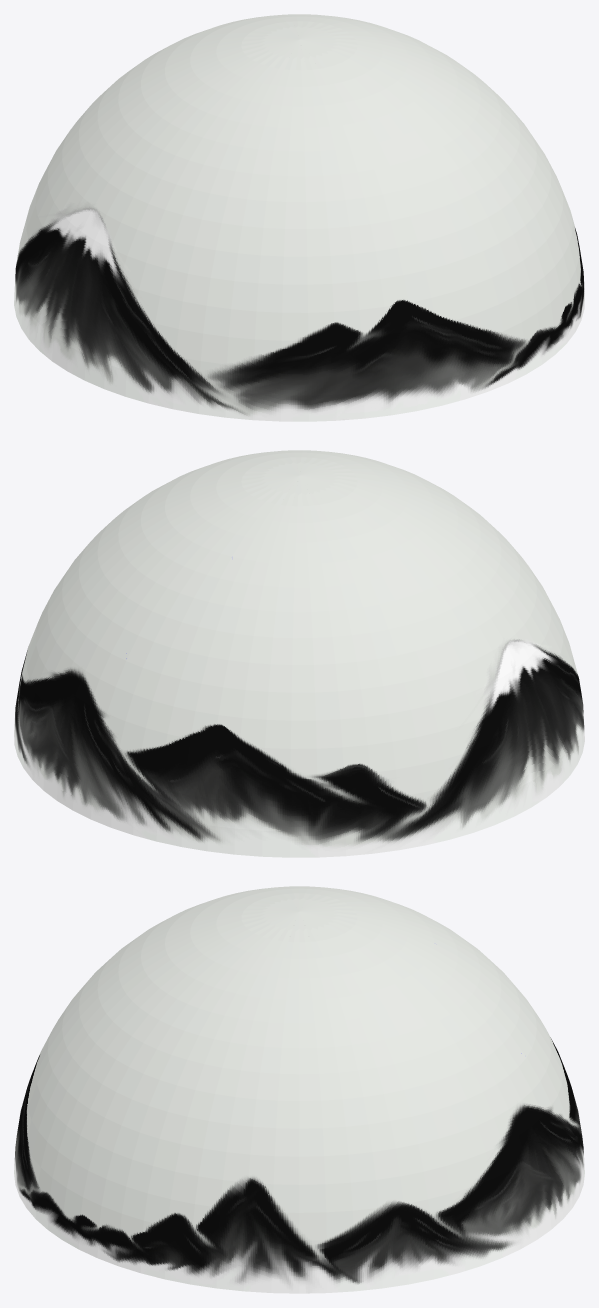
File: skybox.glb
3 renders of one model, top to bottom at view 1: azimuth 30°, elevation 25°; view 2: azimuth 150°, elevation 25°; view 3: azimuth 270°, elevation 25°, orthographic.
Visible parts, largest first — view 1: Sphere; view 2: Sphere; view 3: Sphere.
Part boxes in pixels (x1=…): Sphere: x1=14, y1=14, x2=584, y2=421; Sphere: x1=14, y1=450, x2=584, y2=857; Sphere: x1=14, y1=886, x2=584, y2=1293.
Size of the model in its own units: 1.97 by 0.9976 by 1.97.
Materials: 1 (1 with a texture image).
